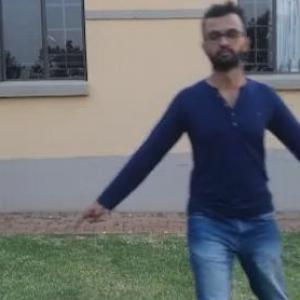land: (96, 36, 299, 299)
